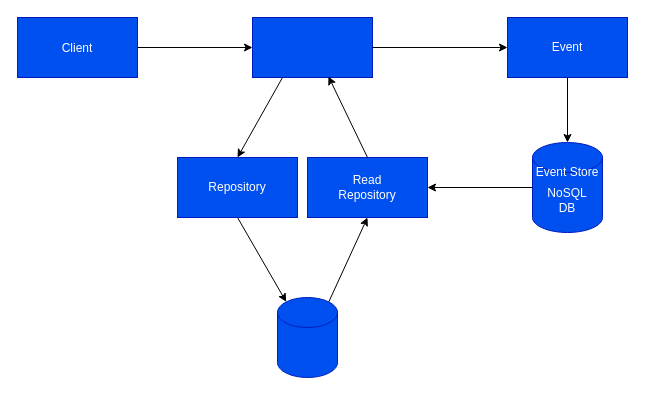
This 645x395 diagram has some shape labels left out. The box of each missing label's shape, as (x1, y1, x2, y2) in pixels:
Command Service: (252, 16, 372, 78)
DB: (276, 296, 338, 378)
